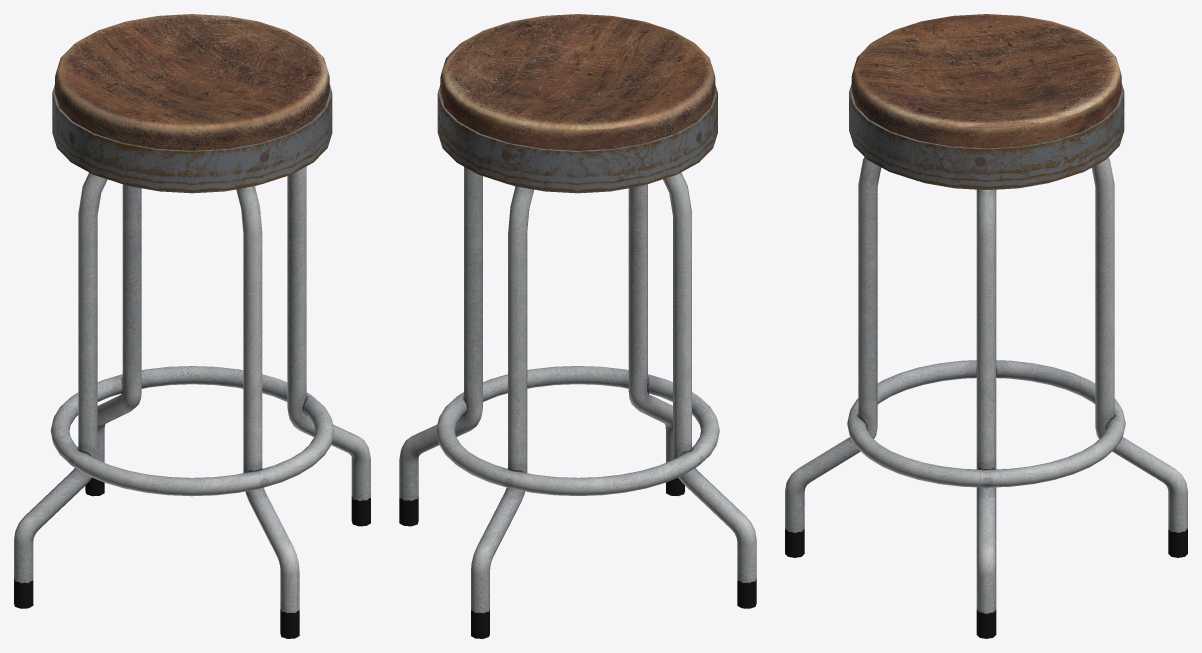
The model's file is stool.fbx.
3 renders of one model, left to right at view 1: azimuth 30°, elevation 25°; view 2: azimuth 150°, elevation 25°; view 3: azimuth 270°, elevation 25°, orthographic.
Visible parts, largest first — view 1: stool; view 2: stool; view 3: stool.
Boxes of the visible parts, x1=… form: stool: x1=14, y1=14, x2=370, y2=638; stool: x1=399, y1=14, x2=756, y2=638; stool: x1=785, y1=14, x2=1187, y2=638.
Size of the model in its own units: 61.88 by 82.21 by 61.88.
